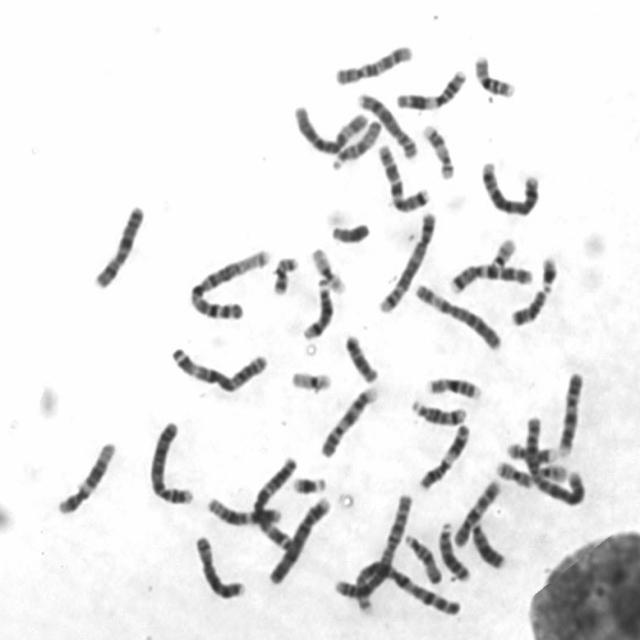A1: (352, 559, 463, 623), (188, 249, 270, 322)
A2: (334, 491, 414, 599), (524, 417, 586, 506)
A3: (168, 342, 268, 394), (252, 455, 298, 550)
B4: (267, 497, 332, 584), (150, 418, 196, 507)
B5: (376, 211, 436, 315), (479, 160, 541, 220)
C10: (453, 480, 501, 548), (336, 44, 412, 86)
C11: (418, 424, 471, 490), (397, 69, 467, 110)
C12: (57, 442, 116, 515), (204, 496, 282, 528)
C6: (413, 282, 502, 352), (294, 106, 369, 156)
C7: (377, 145, 430, 213), (448, 264, 534, 294)
C8: (358, 92, 418, 160), (193, 534, 247, 602)
C9: (320, 386, 378, 458), (558, 371, 583, 459)
D13: (437, 522, 469, 581), (472, 522, 506, 570)
D14: (301, 279, 334, 340), (409, 401, 469, 426)
D15: (333, 121, 381, 173), (404, 534, 443, 586)
E16: (474, 54, 515, 98), (424, 378, 484, 400)
E17: (422, 124, 454, 182), (507, 442, 559, 466)
E18: (344, 334, 378, 385), (512, 291, 546, 326)
F19: (310, 246, 346, 296), (291, 371, 333, 393)
F20: (273, 255, 299, 298), (496, 462, 532, 488)
G21: (540, 254, 558, 296), (293, 476, 326, 496)
G22: (491, 238, 515, 268), (540, 465, 567, 483)
X: (94, 206, 144, 293)
Y: (331, 222, 372, 246)
